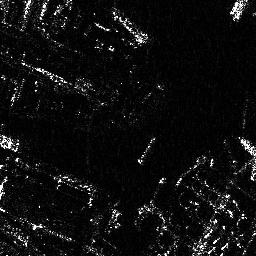ship: (110, 4, 148, 44), (137, 135, 158, 165)
